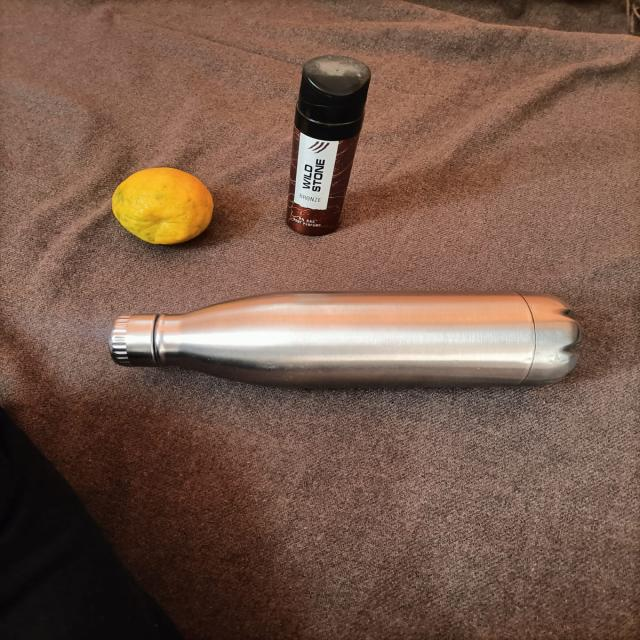bottle: (86, 283, 603, 398)
orange: (94, 162, 222, 255)
spray: (285, 52, 377, 258)
